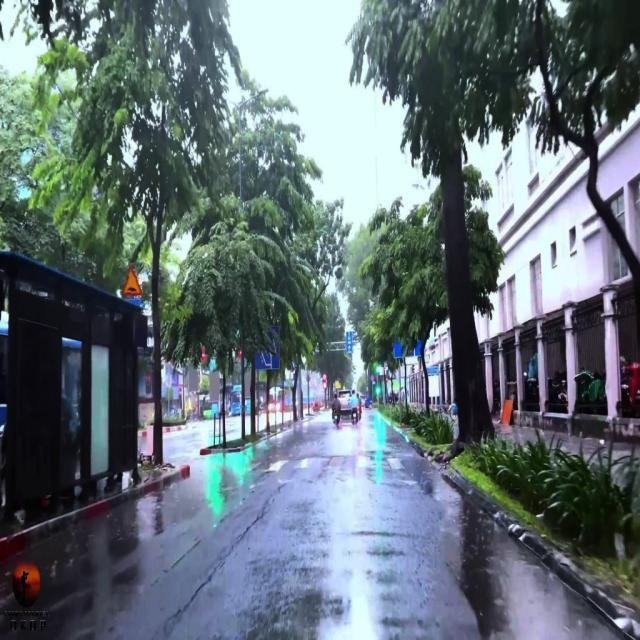221-duong-go-ghe: (122, 266, 144, 296)
